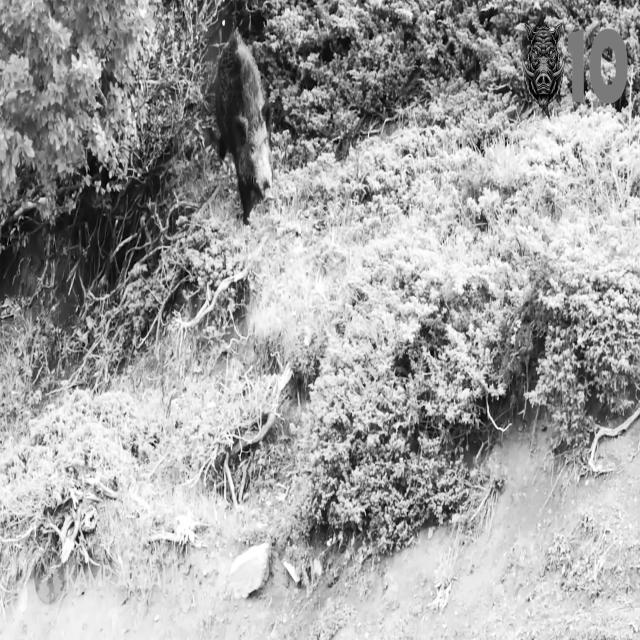boar: (215, 30, 271, 222)
